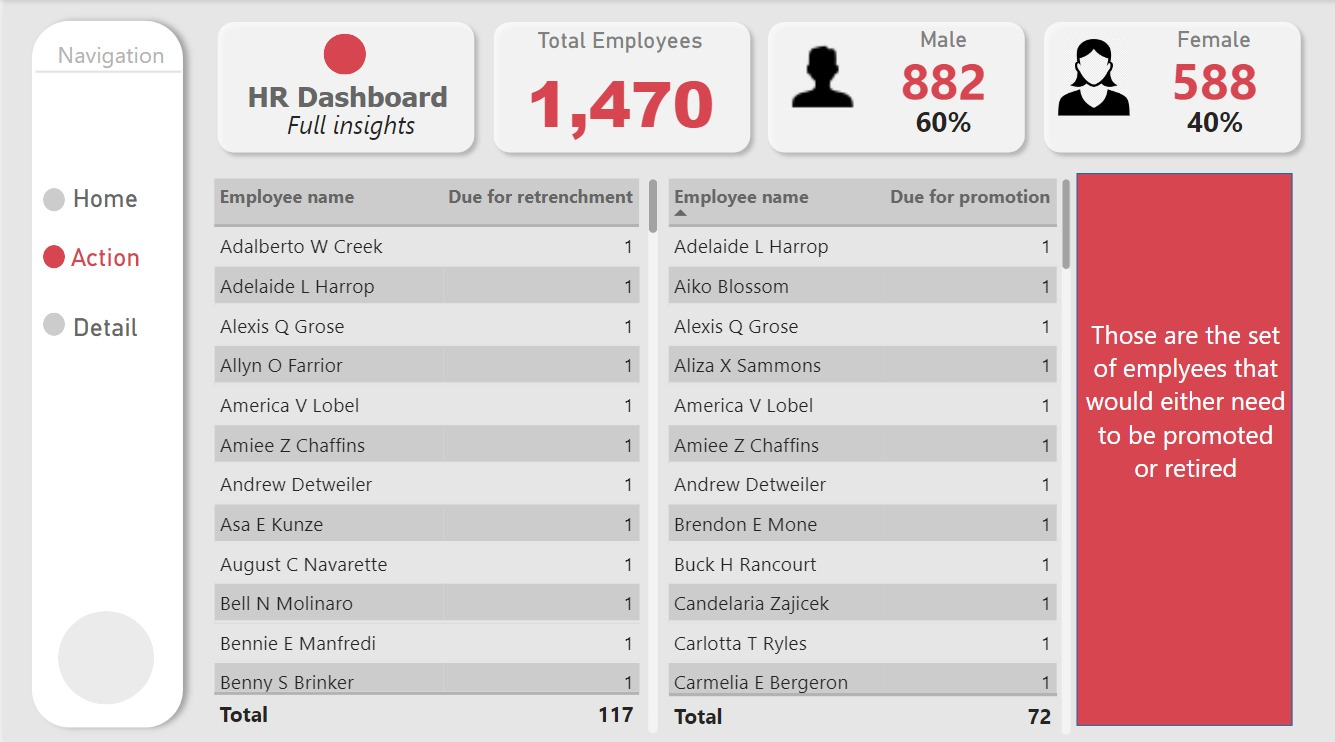

Layout of this report page (visuals, bound fields, positions):
{"tool":"powerbi","page":{"name":"Action","canvas":[1280,720],"ordinal":2},"visuals":[{"type":"shape","box":[1028.6,166.2,207,530.1],"z":0},{"type":"shape","box":[16.5,9.6,166.5,699.2],"z":1000},{"type":"shape","box":[195.4,12.4,264.3,143.1],"z":2000},{"type":"shape","box":[459.7,12.4,264.3,143.1],"z":3000},{"type":"shape","box":[724,12.4,264.3,143.1],"z":4000},{"type":"shape","box":[988.2,12.4,264.3,143.1],"z":5000},{"type":"textbox","box":[209.7,71.2,238.7,51.4],"z":6000},{"type":"textbox","box":[36.9,33,130.5,51.4],"z":7000},{"type":"textbox","box":[209.7,97.6,251.9,55.4],"z":8000},{"type":"shape","box":[305.9,33,40.9,39.6],"z":9000},{"type":"card","title":"Total Employees","fields":{"Values":["All Measures.Total Emp"]},"box":[468,27.5,246.4,112.9],"z":10000},{"type":"card","title":"Male","fields":{"Values":["All Measures.Male"]},"box":[814.8,26.2,170.7,75.7],"z":11000},{"type":"card","fields":{"Values":["All Measures.Male %"]},"box":[834.1,90.8,132.1,55.1],"z":12000},{"type":"card","title":"Female","fields":{"Values":["All Measures.Female"]},"box":[1068.7,26.2,183.1,75.7],"z":13000},{"type":"card","fields":{"Values":["All Measures.Female %"]},"box":[1083.9,90.8,152.8,53.7],"z":14000},{"type":"image","box":[736.3,26.2,95,90.8],"z":15000},{"type":"image","box":[1004.7,33,79.8,84],"z":16000},{"type":"tableEx","fields":{"Values":["HR employee data.Emplyee name","All Measures.Due for retirment"]},"box":[195.4,166.5,436.3,542.3],"z":17000},{"type":"tableEx","fields":{"Values":["HR employee data.Emplyee name","All Measures.Due for promotion"]},"box":[631.7,166.5,396.4,543.7],"z":18000},{"type":"textbox","box":[1029.3,299.6,206.6,217.4],"z":19000},{"type":"shape","box":[36.9,300.7,21.1,22.4],"z":20000},{"type":"actionButton","title":"Detail","box":[27.7,300.7,139.8,58],"z":21000},{"type":"shape","box":[36.9,236,21.1,22.4],"z":22000},{"type":"actionButton","title":"Action","box":[27.7,233.4,139.8,65.9],"z":23000},{"type":"shape","box":[36.9,180.7,21.1,22.4],"z":24000},{"type":"actionButton","title":"Home","box":[27.7,176.7,139.8,56.7],"z":25000},{"type":"shape","box":[51.4,586.8,92.3,89.7],"z":26000},{"type":"shape","box":[30.2,61.6,140.1,15.7],"z":27000}]}

Visuals, with their boxes in screenshot pixels (x1, y1, x2, y2), scaled from the page's 1280x720 canvas onto the 1335x742 screenshot:
shape: [1073,171,1289,718]
shape: [17,10,191,730]
shape: [204,13,479,160]
shape: [479,13,755,160]
shape: [755,13,1031,160]
shape: [1031,13,1306,160]
textbox: [219,73,468,126]
textbox: [38,34,175,87]
textbox: [219,101,481,158]
shape: [319,34,362,75]
"Total Employees" card: [488,28,745,145]
"Male" card: [850,27,1028,105]
card - All Measures.Male %: [870,94,1008,150]
"Female" card: [1115,27,1306,105]
card - All Measures.Female %: [1130,94,1290,149]
image: [768,27,867,121]
image: [1048,34,1131,121]
tableEx - HR employee data.Emplyee name x All Measures.Due for retirment: [204,172,659,730]
tableEx - HR employee data.Emplyee name x All Measures.Due for promotion: [659,172,1072,732]
textbox: [1074,309,1289,533]
shape: [38,310,60,333]
"Detail" actionButton: [29,310,175,370]
shape: [38,243,60,266]
"Action" actionButton: [29,241,175,308]
shape: [38,186,60,209]
"Home" actionButton: [29,182,175,241]
shape: [54,605,150,697]
shape: [31,63,178,80]
